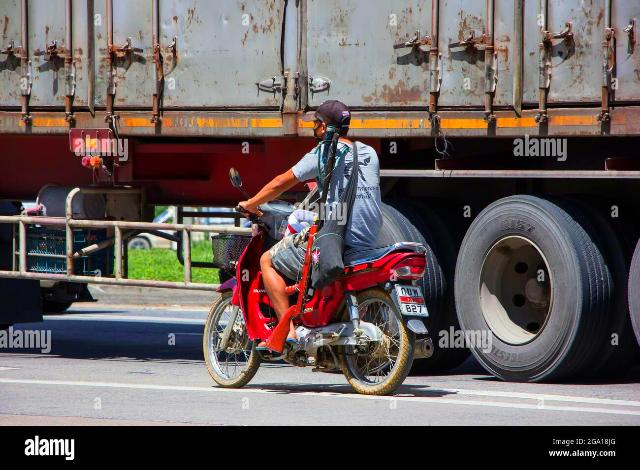motor: (205, 202, 436, 396)
non-helm: (303, 101, 351, 141)
